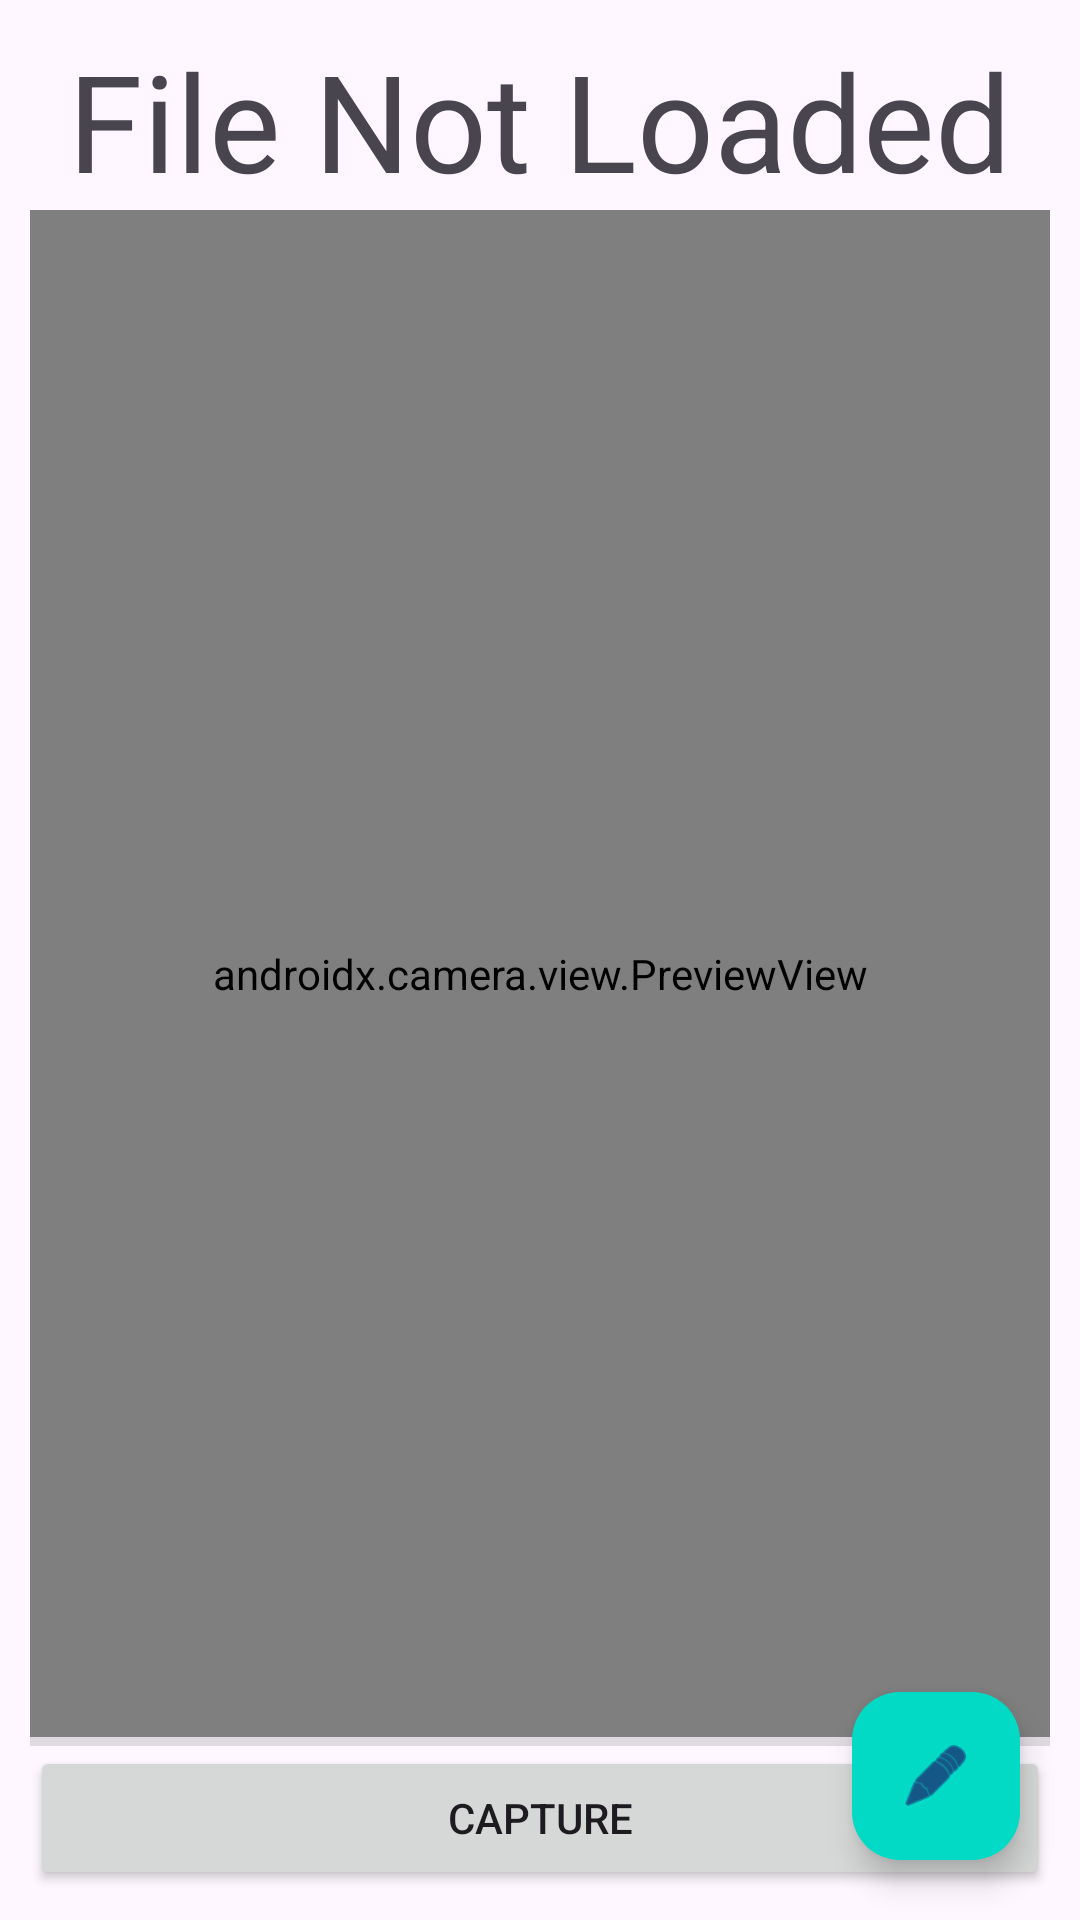

Where to tap for icons on this 1080px×1920px app screen, as (x,y):
edit: (936,1776)
